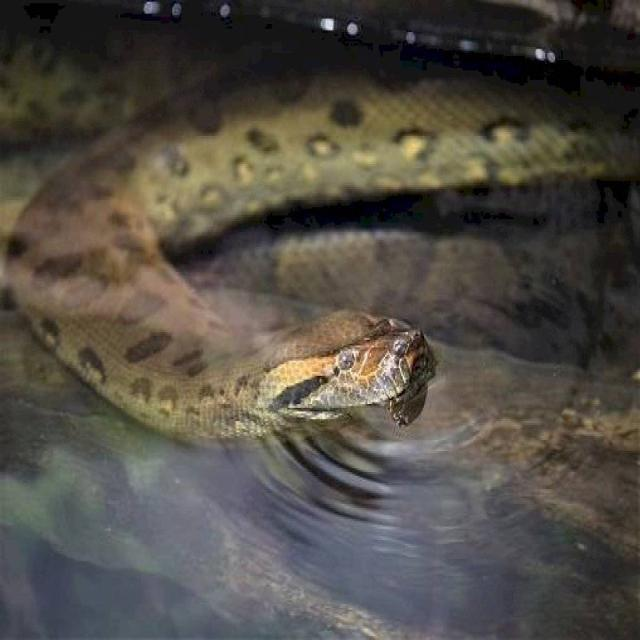Snake: (0, 0, 640, 481)
